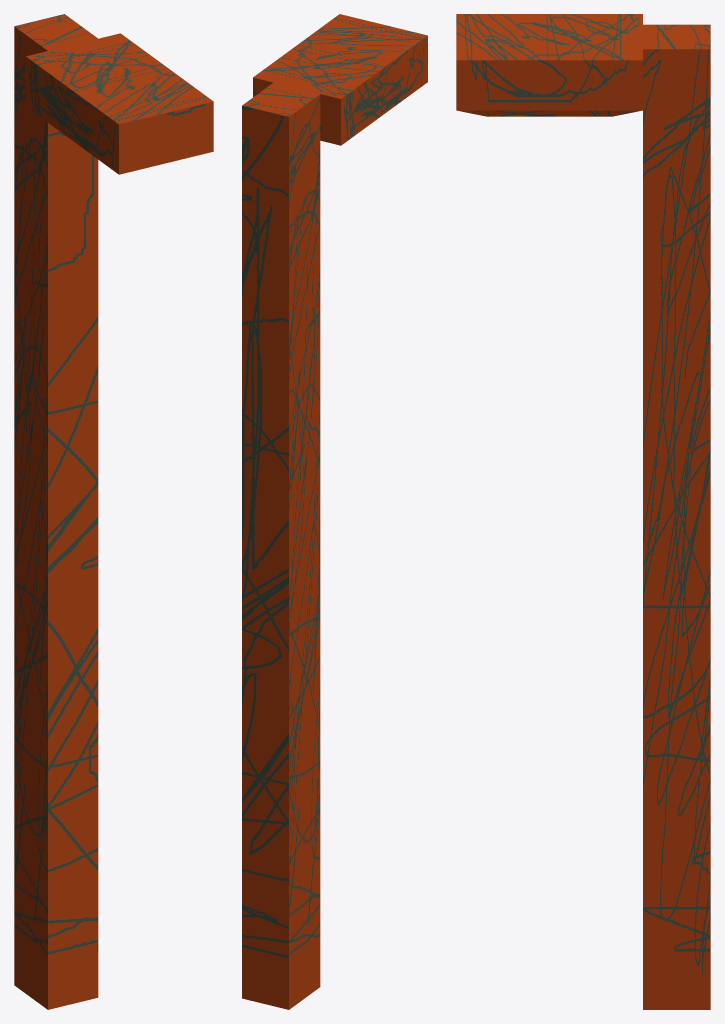
The model's file is streetLight 1.fbx.
3 renders of one model, left to right at view 1: azimuth 30°, elevation 25°; view 2: azimuth 150°, elevation 25°; view 3: azimuth 270°, elevation 25°, orthographic. The views are drawn at different scales.
Parts seen in each view (by area): view 1: Cube; view 2: Cube; view 3: Cube.
Part boxes in pixels (box(x1,y1,x2,y2)): Cube: box(14, 14, 213, 1009); Cube: box(242, 14, 427, 1009); Cube: box(456, 14, 710, 1009).
Size of the model in its own units: 116 by 1122 by 269.
